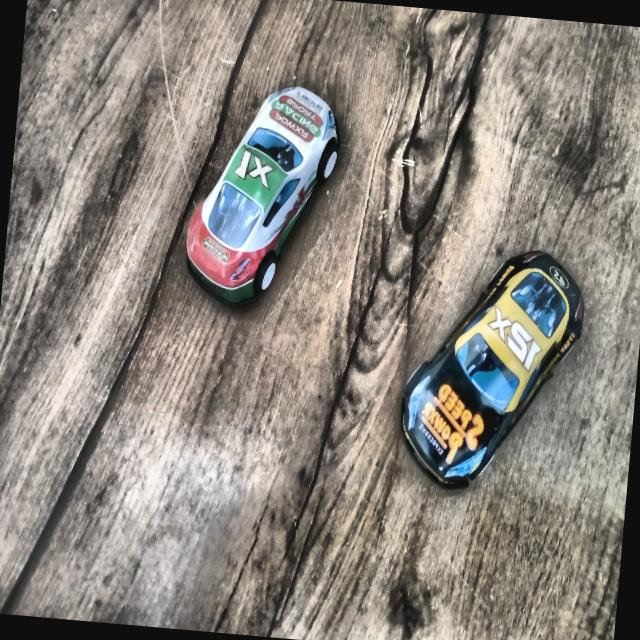Car: (391, 236, 591, 509), (174, 76, 348, 324)
